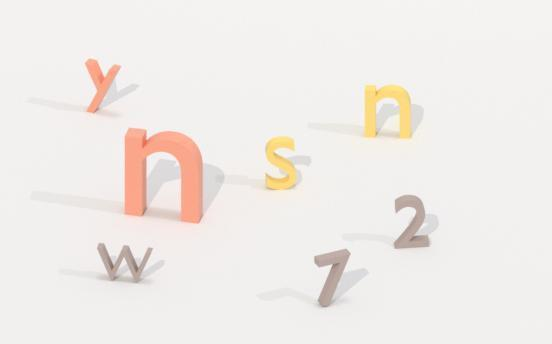chu_khoi: (124, 128, 202, 222), (364, 85, 411, 137), (97, 243, 152, 281), (85, 59, 120, 112), (265, 136, 296, 189)
so_khoi: (314, 249, 349, 306), (394, 195, 429, 248)
